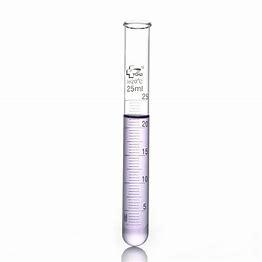Test tube: (116, 19, 150, 248)
